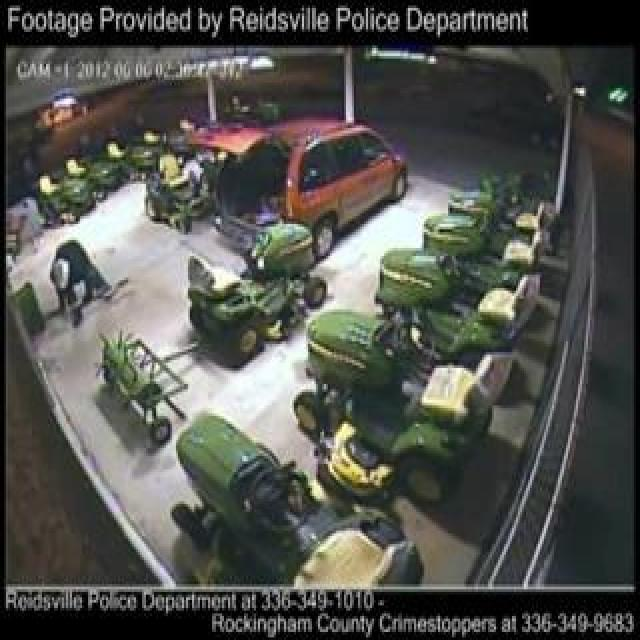thief: (30, 203, 107, 351)
